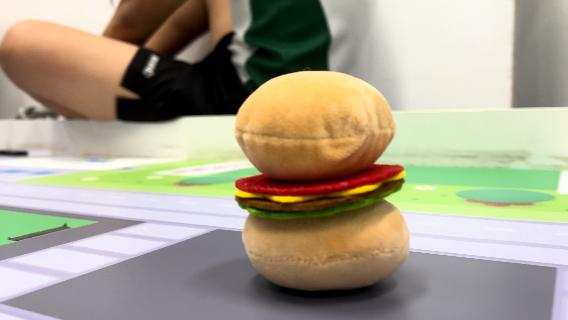burger: (227, 65, 417, 292)
